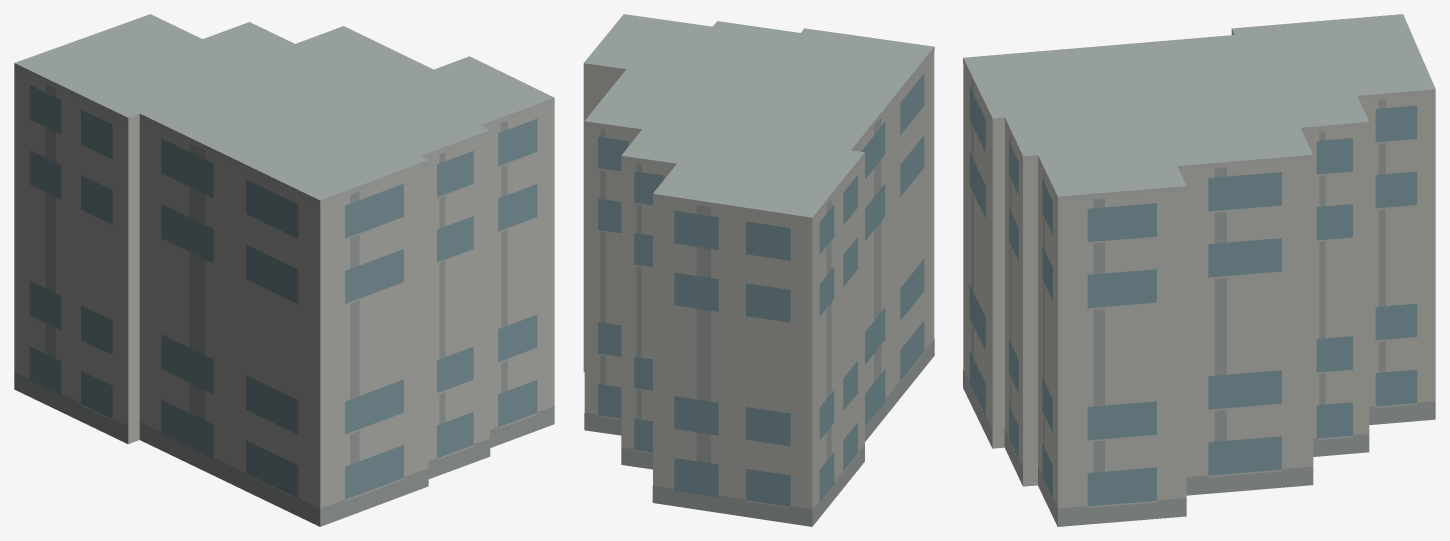
The model's file is survey-upis-32760584.glb.
3 renders of one model, left to right at view 1: azimuth 30°, elevation 25°; view 2: azimuth 150°, elevation 25°; view 3: azimuth 270°, elevation 25°, orthographic. The views are drawn at different scales.
Visible parts, largest first — view 1: survey-upis-32760584.tmp; view 2: survey-upis-32760584.tmp; view 3: survey-upis-32760584.tmp.
Part boxes in pixels (<box>): survey-upis-32760584.tmp: <box>14,14,554,526</box>; survey-upis-32760584.tmp: <box>583,14,934,526</box>; survey-upis-32760584.tmp: <box>963,14,1435,526</box>.
Size of the model in its own units: 17.19 by 14.5 by 18.81.
